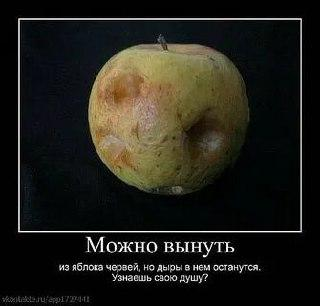Apple: (89, 43, 248, 194)
